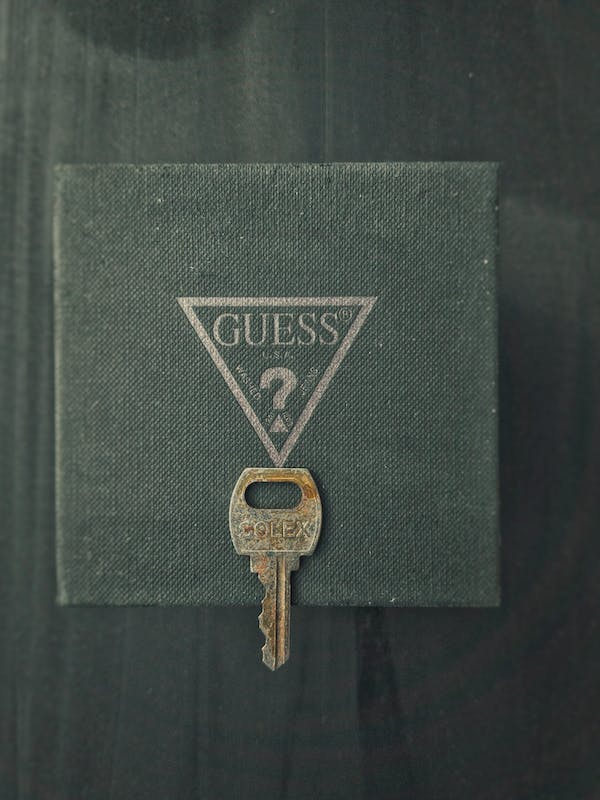key: (227, 467, 326, 673)
